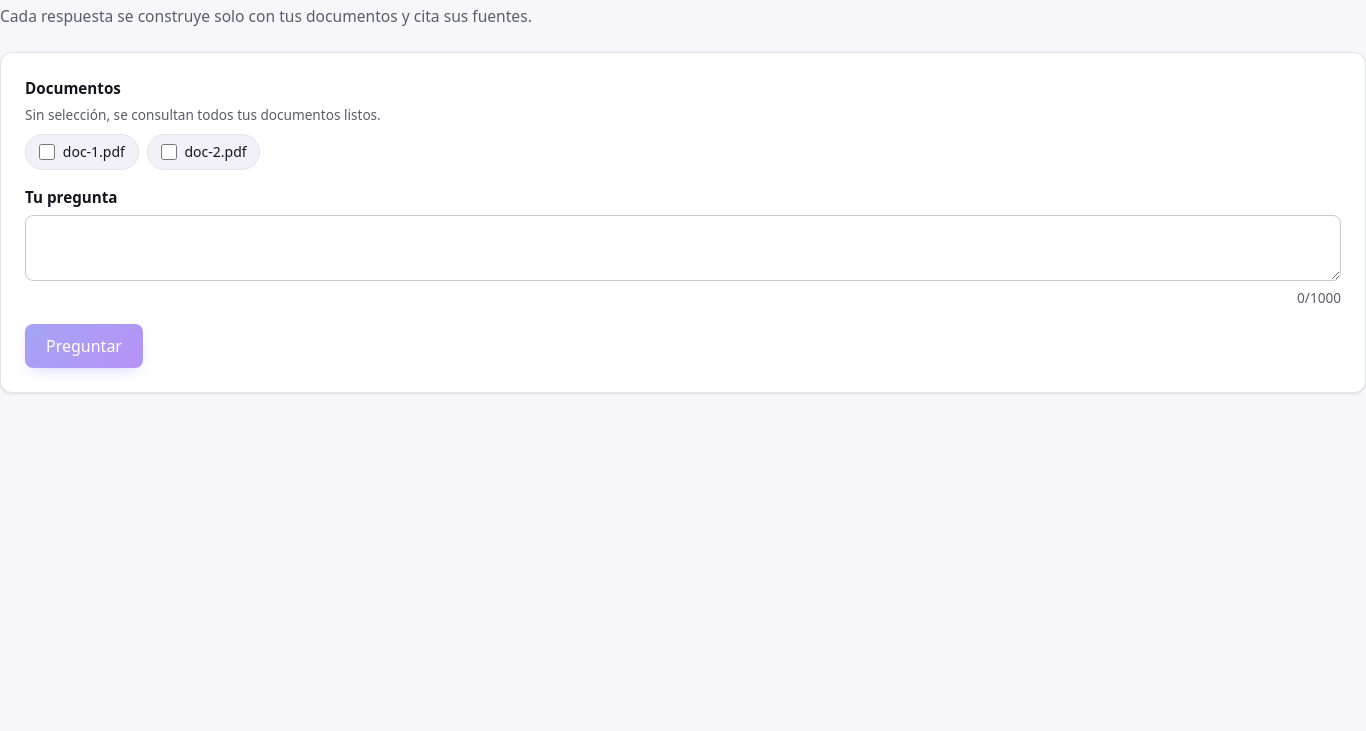
Test: pregunta, abstención y citas › tras una abstención, una pregunta mejor obtiene respuesta y la cita abre su fuente
This screenshot has width=1366, height=731.
Type "¿Cuál es la capital de Marte?" into the text box labelled "Tu pregunta 0/1000".
click(683, 248); type("¿Cuál es la capital de Marte?")  # box [25,215,1341,282]
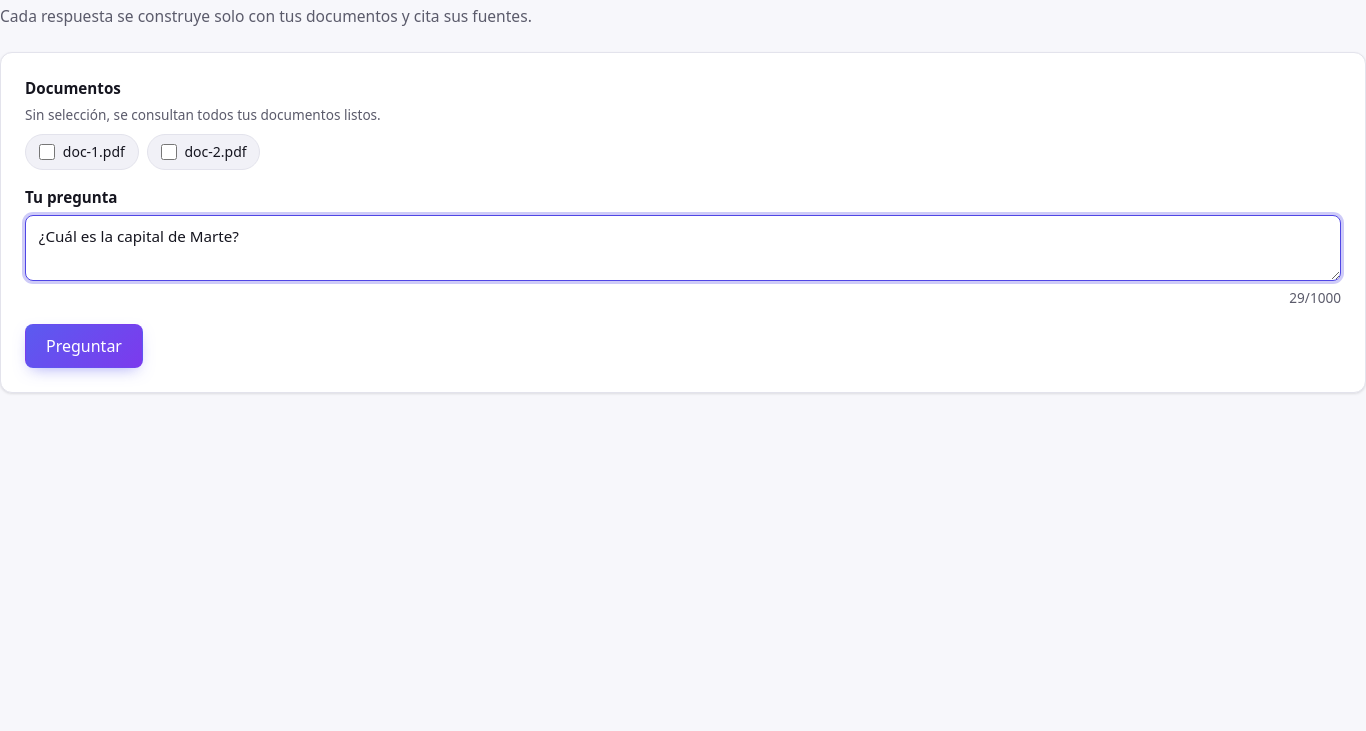
Click the button "Preguntar".
click(84, 346)  # box [25,324,143,368]
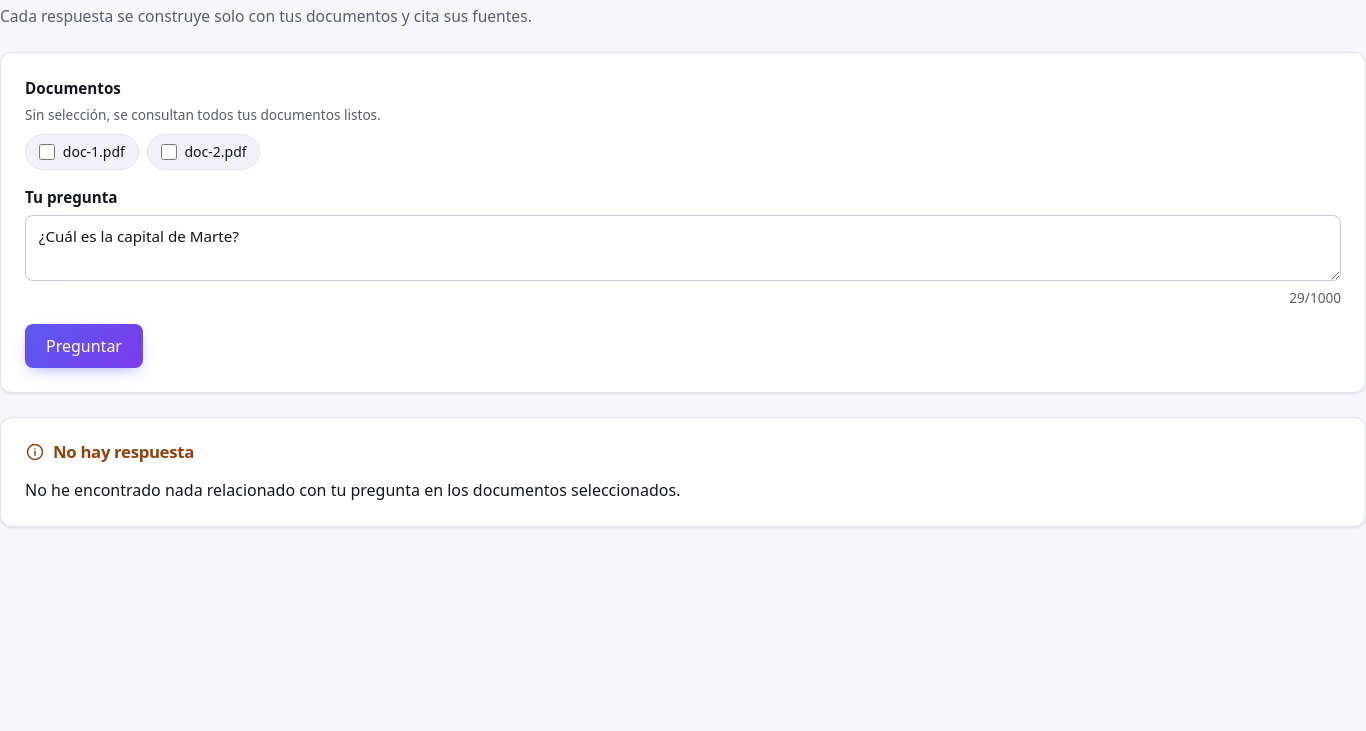
Check: the element named "Sin respuesta" shows "No he encontrado nada relacionado", box [25,479,680,501]
Replace the text in the text box labelled "Tu pregunta 29/1000" with "¿Qué dicen los documentos?" at (683,248), box [25,215,1341,282]
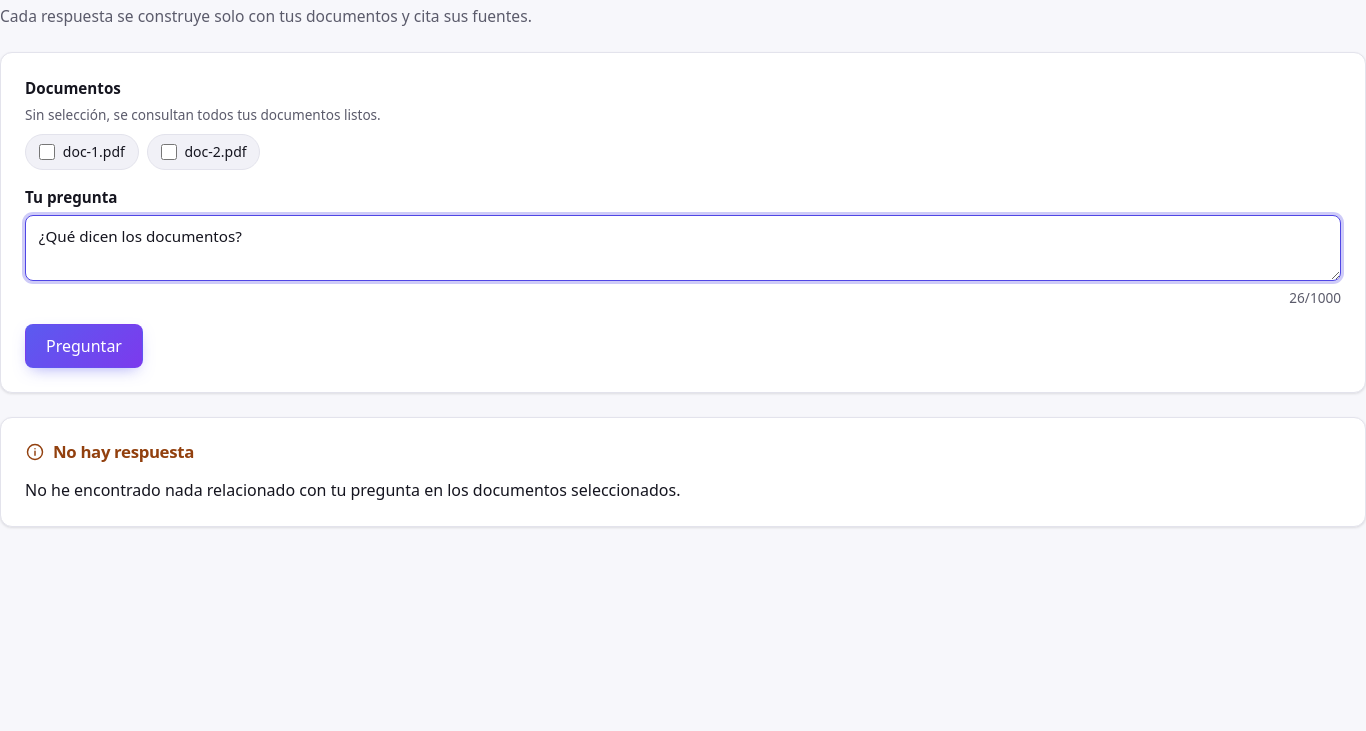
Click the button "Preguntar".
click(84, 346)  # box [25,324,143,368]
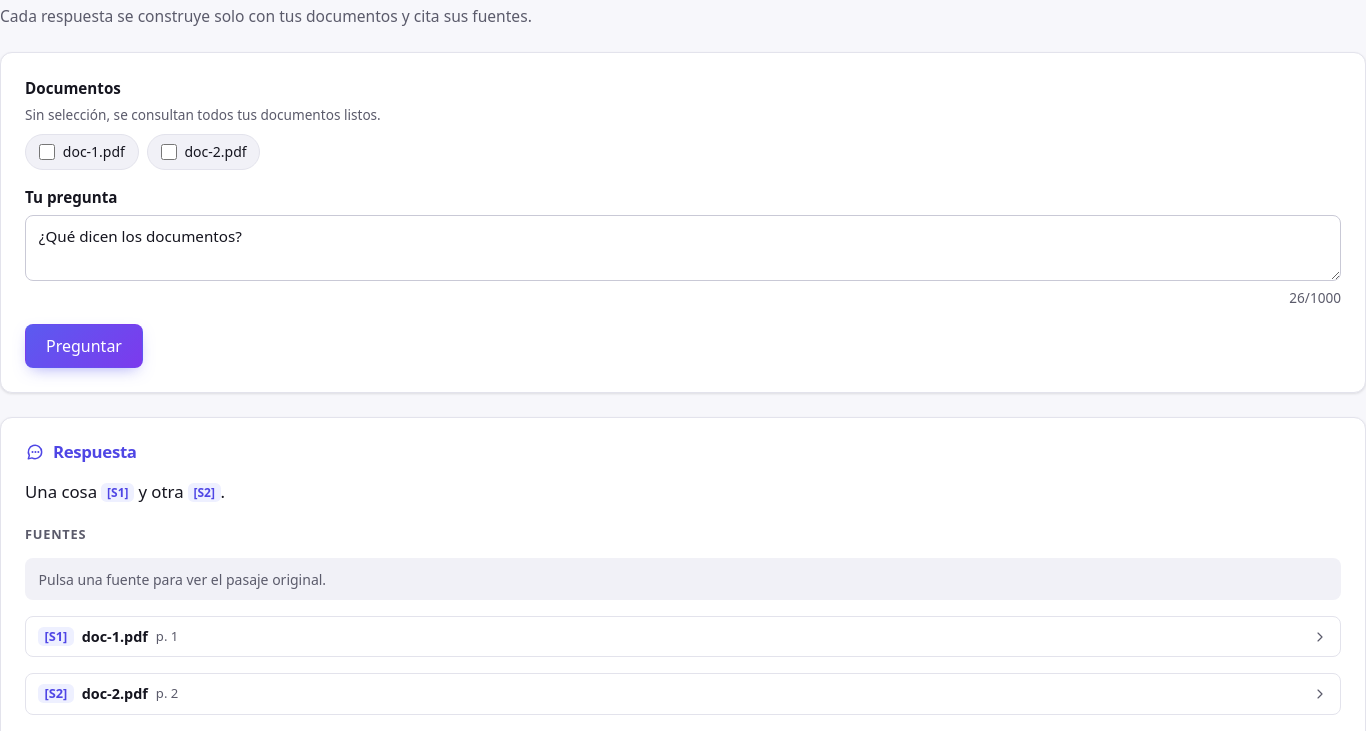
Click the button "[S2] doc-2.pdf p. 2".
click(56, 694)  # box [25,673,1341,714]
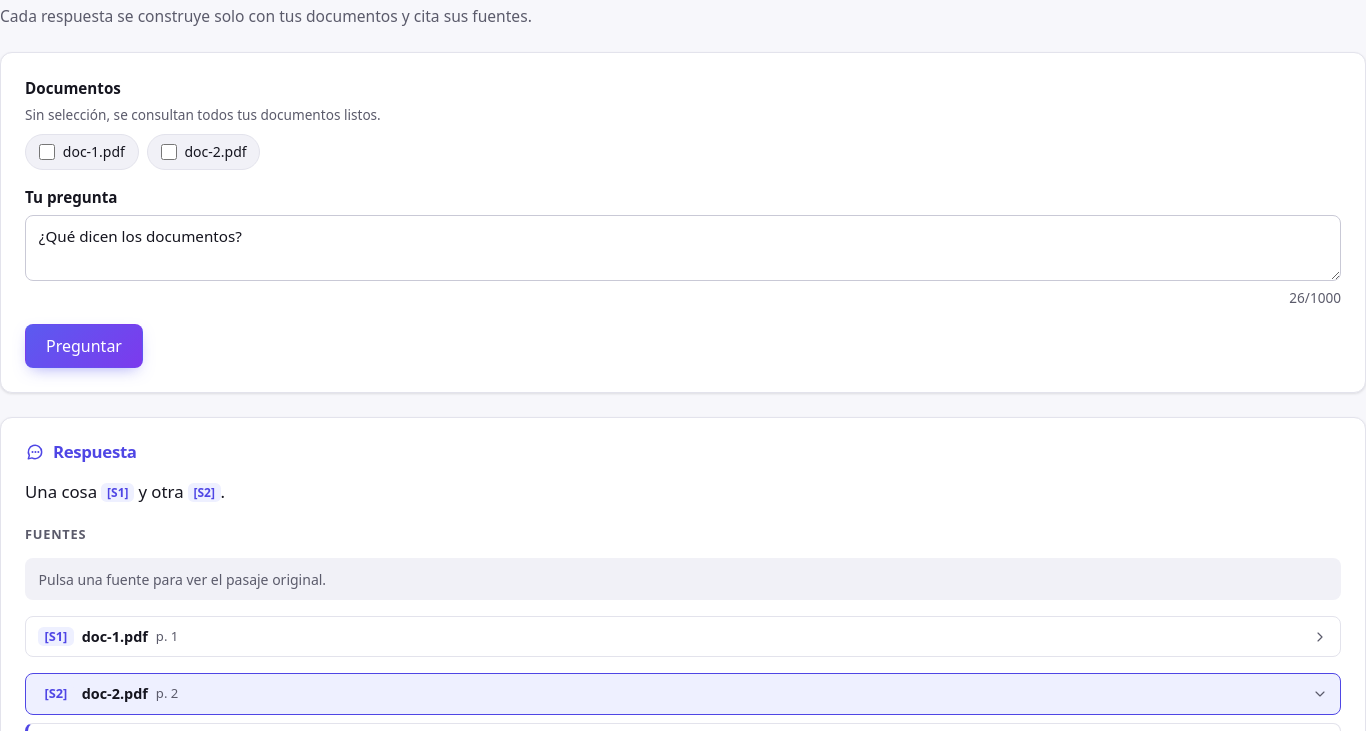
Check: the text "Texto original del documento 1." is not shown
Click the button "[S1] doc-1.pdf p. 1".
click(56, 637)  # box [25,616,1341,657]
(page scrolled)
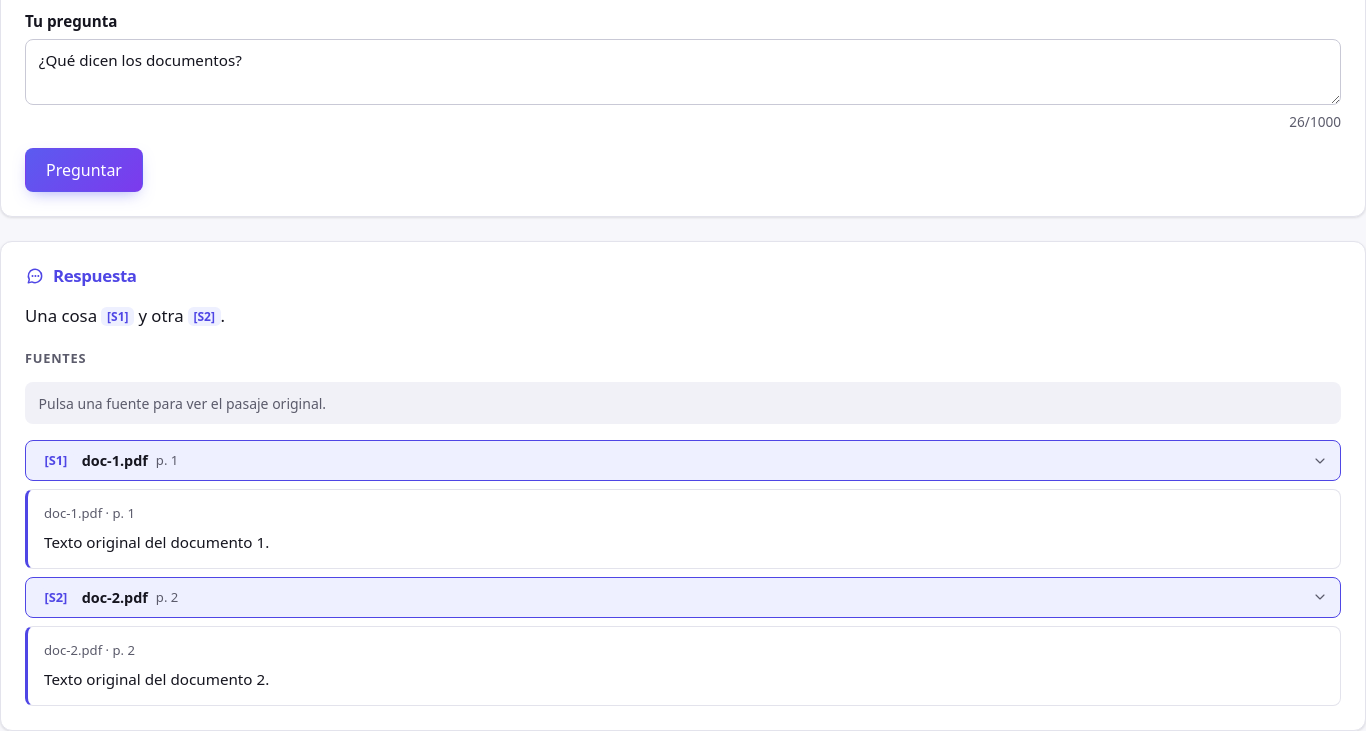
Check: the text "Texto original del documento 2." is shown, box [44,669,269,689]
Check: the text "Texto original del documento 1." is shown, box [44,532,269,552]
